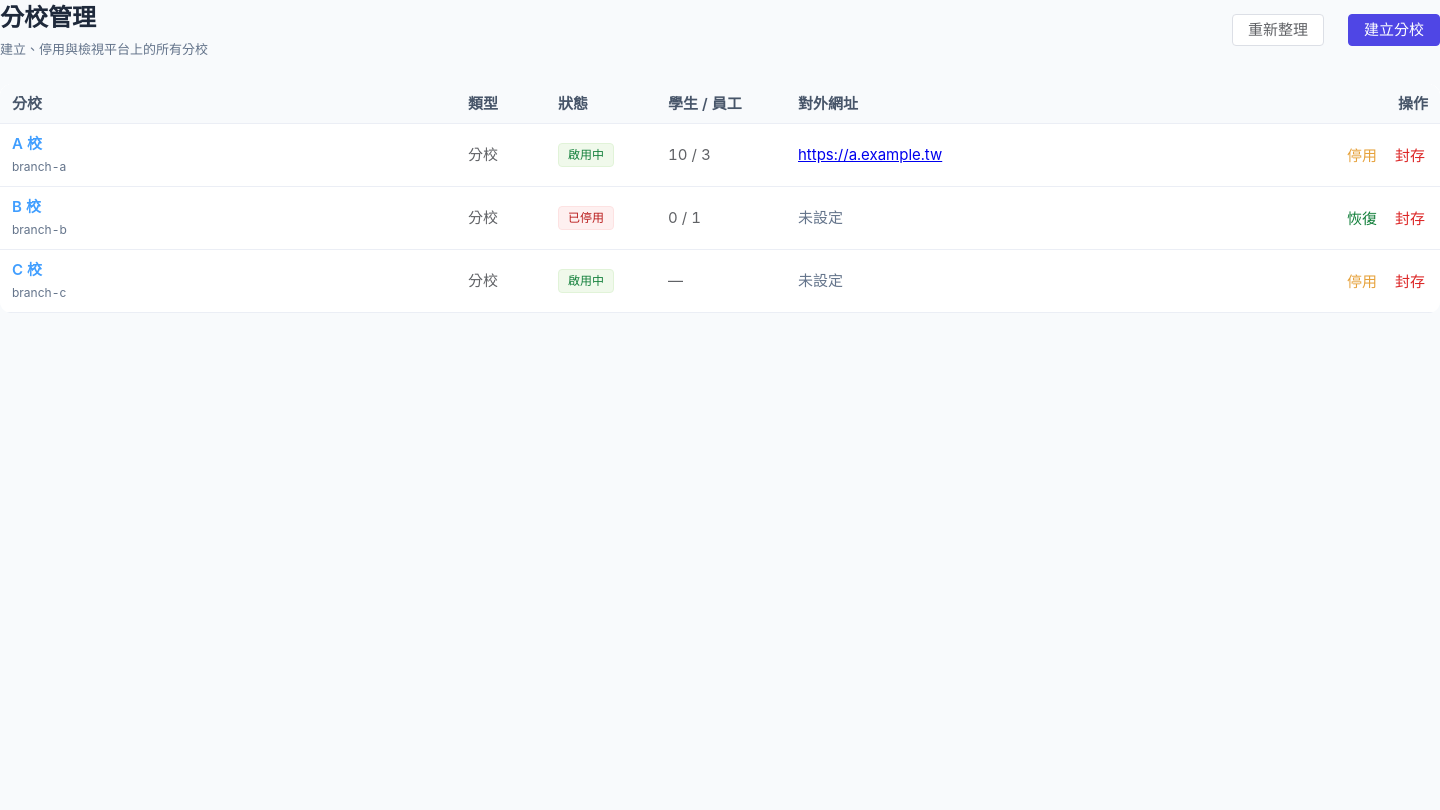
PlatformTenantsView › 新分校沒有 public_origin → 隱藏登入連結（不猜一個 hq 的網址）
Click the button with test id "open-create". click: (1394, 30)
box: [1348, 14, 1439, 46]
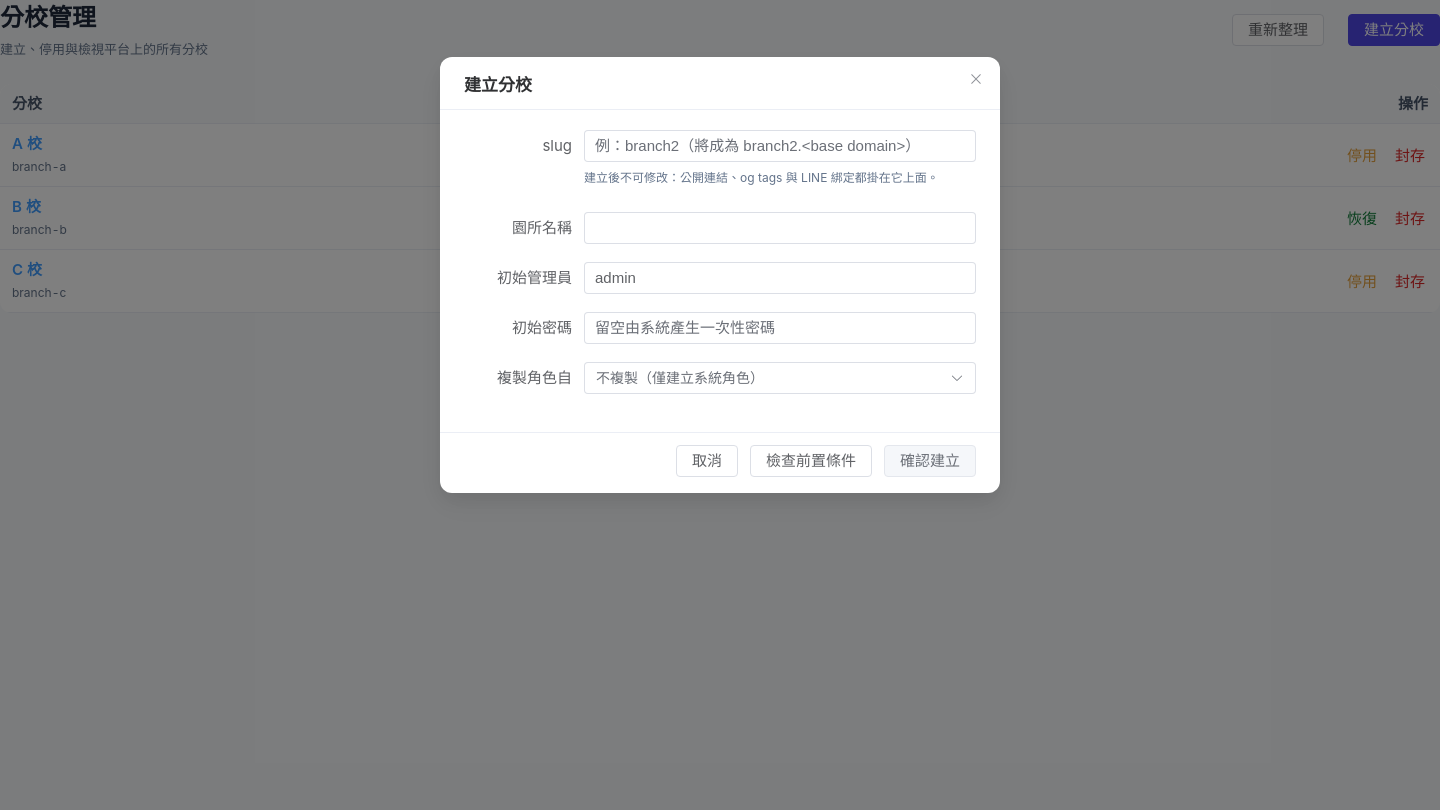
Type "branch-c" into the field with test id "create-slug". click: (780, 146)
box: [595, 131, 965, 161]
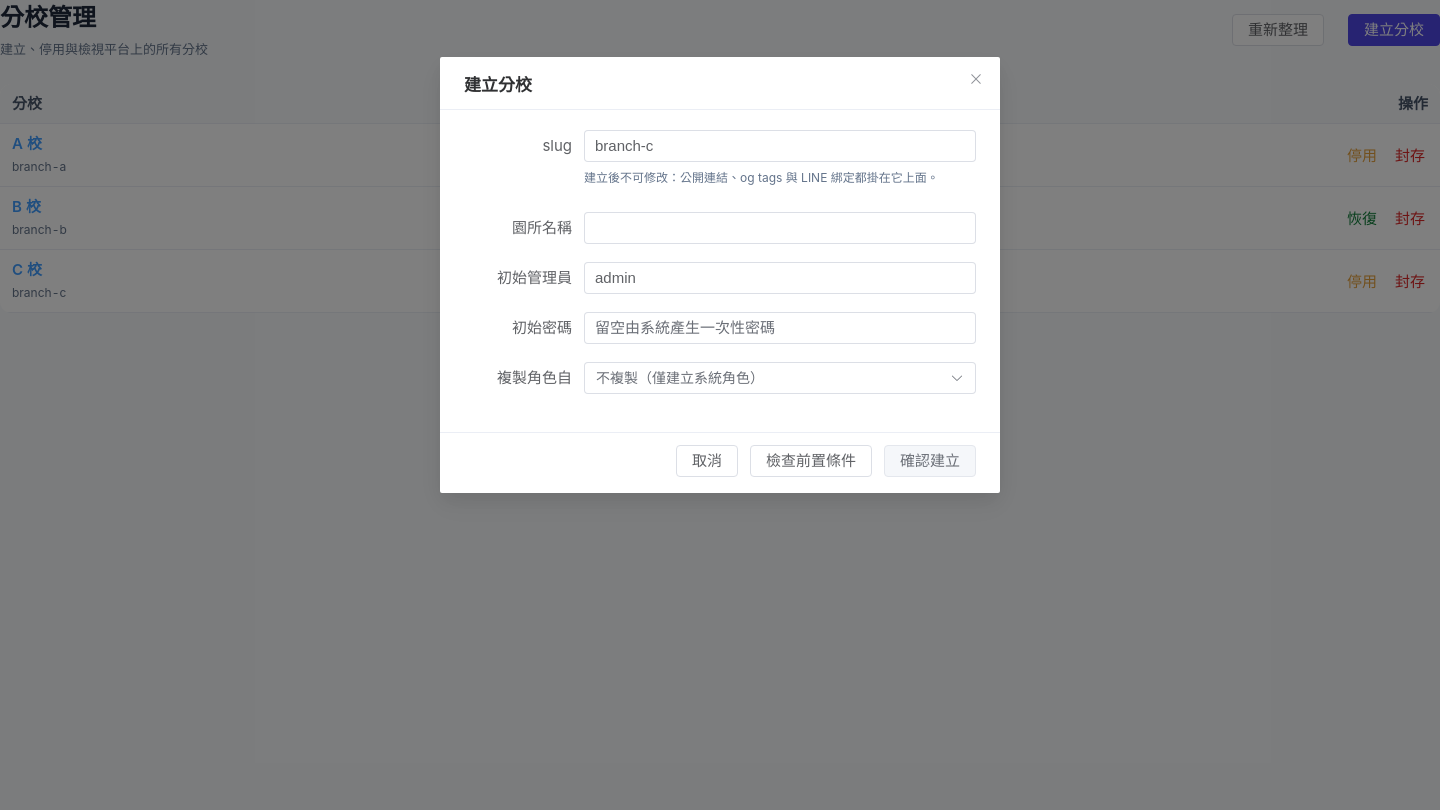
Type "C 校" into the field with test id "create-name". click: (780, 228)
box: [595, 213, 965, 243]
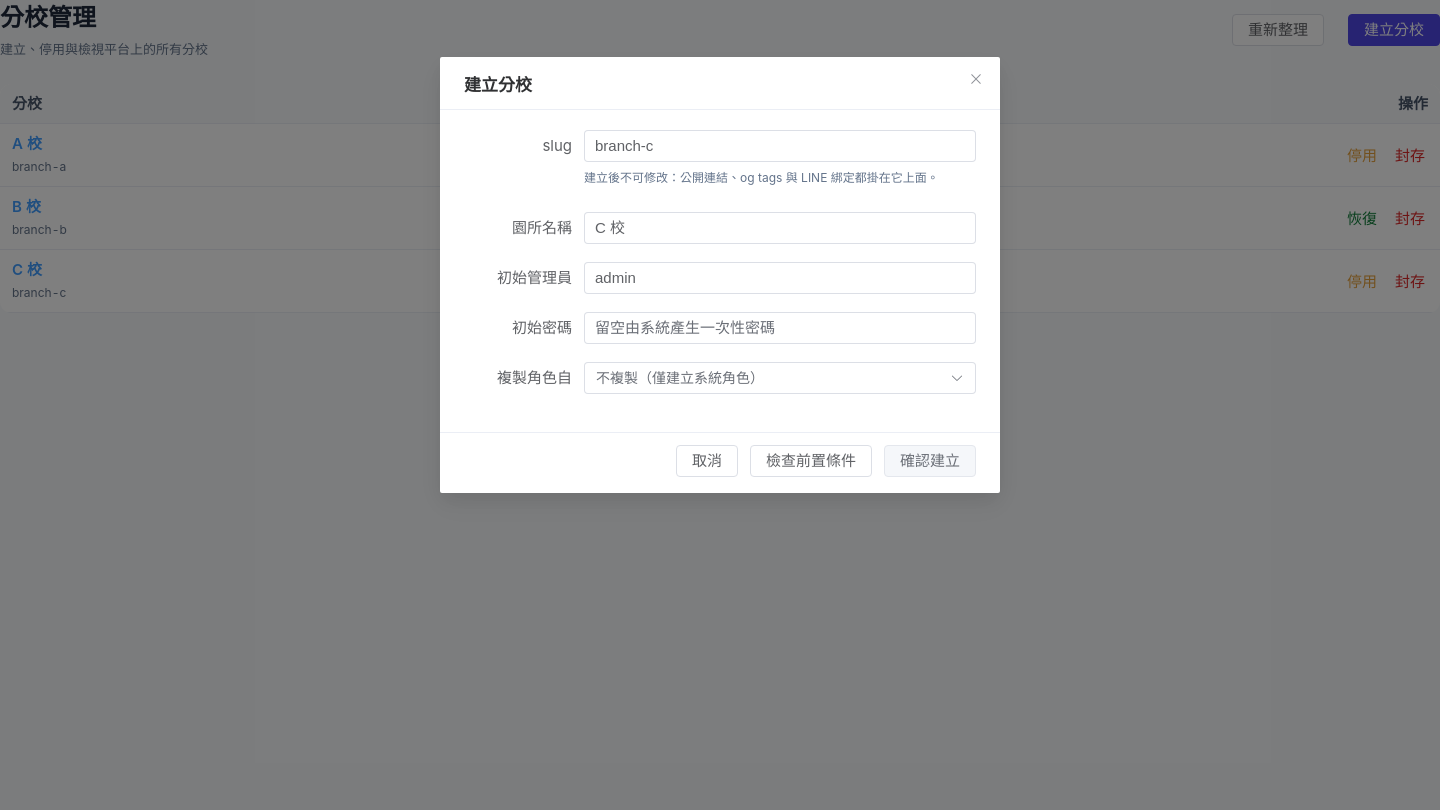
Click the button with test id "create-dryrun". click: (811, 461)
box: [750, 445, 872, 477]
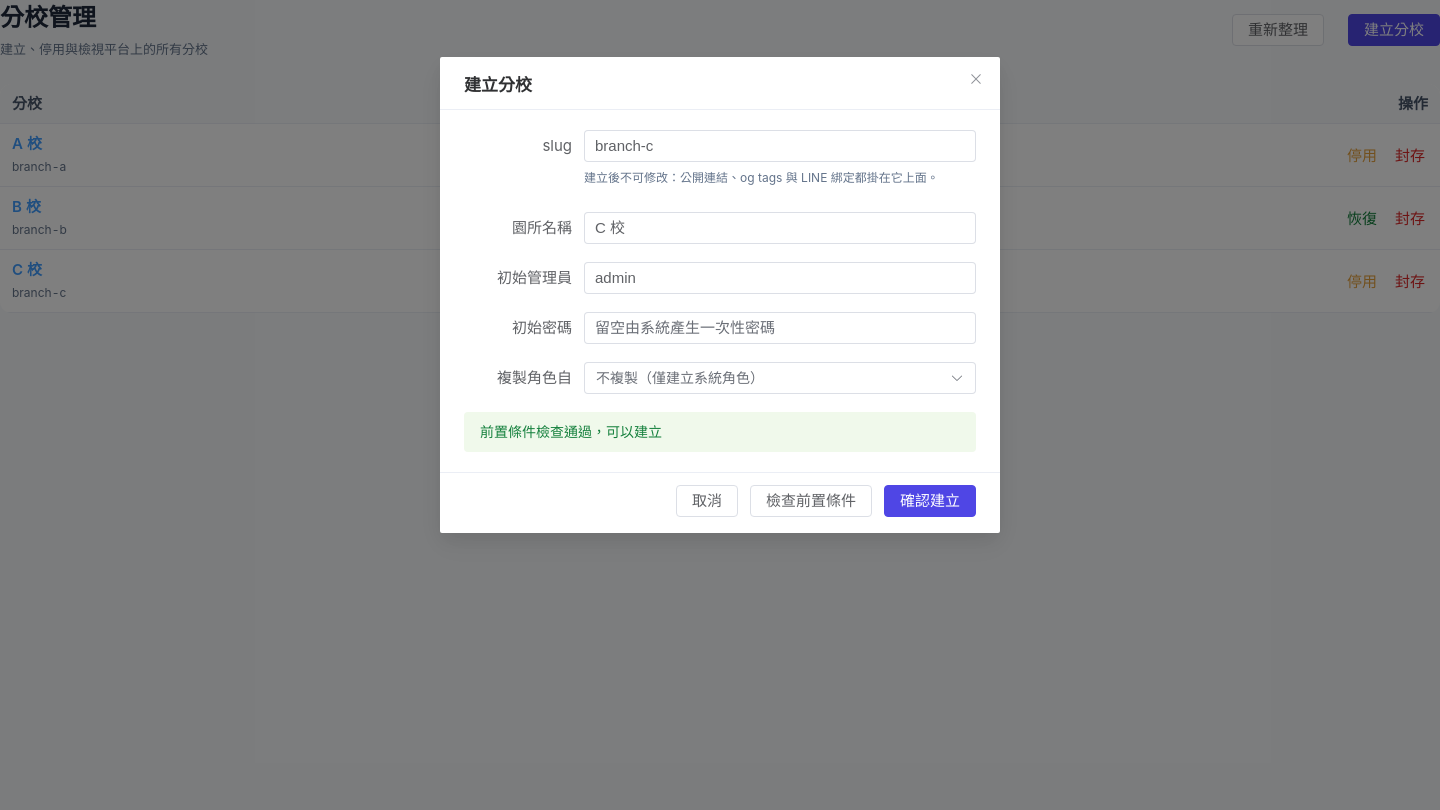
Click the button with test id "create-submit". click: (930, 501)
box: [884, 485, 976, 517]
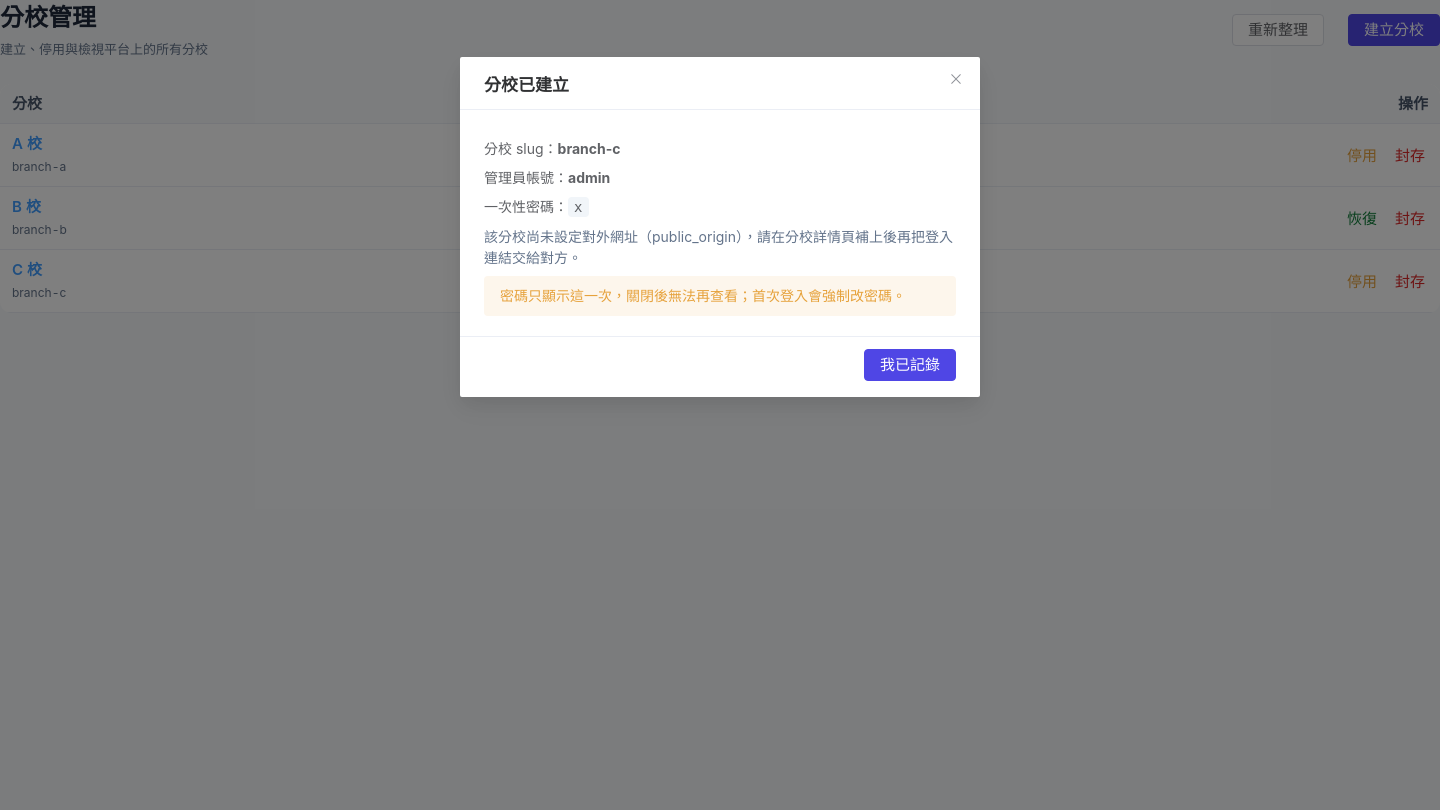
Result: the text "該分校尚未設定對外網址（public_origin），請在分校詳情頁補上後再把登入連結交給對方。" is shown at [484, 226, 956, 268]
